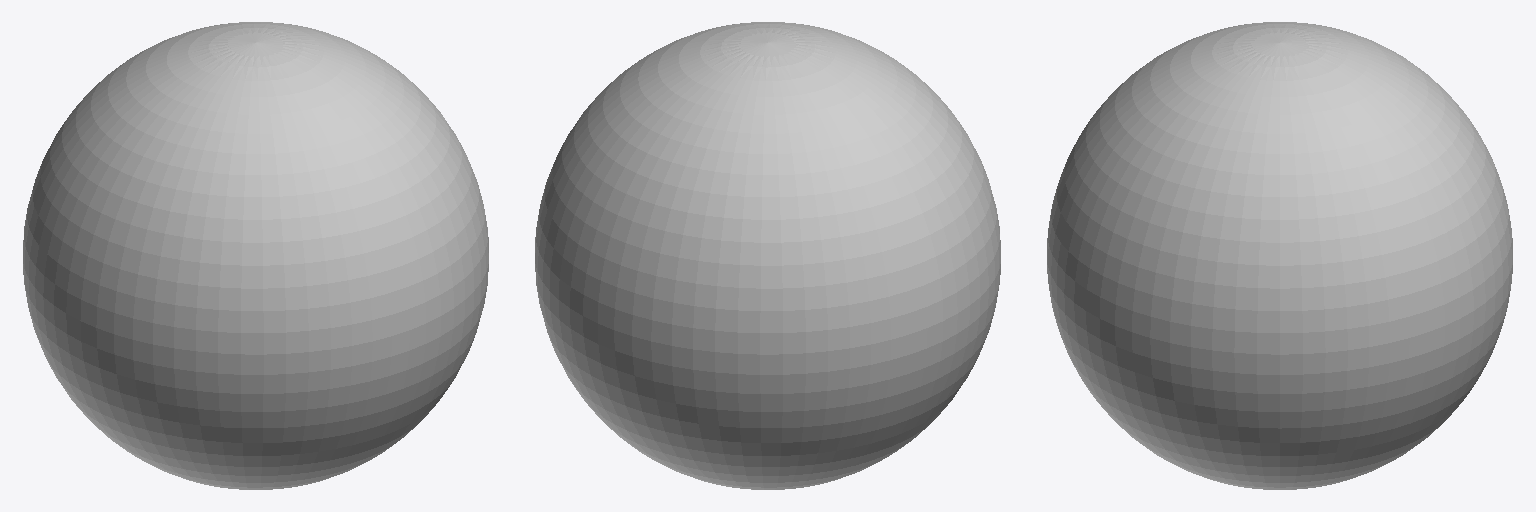
File: ball.obj
The picture shows the model from 3 angles: view 1: azimuth 30°, elevation 25°; view 2: azimuth 150°, elevation 25°; view 3: azimuth 270°, elevation 25°; orthographic projection.
Visible parts, largest first — view 1: Sphere; view 2: Sphere; view 3: Sphere.
Part boxes in pixels (left/top/right/bottom): Sphere: left=23, top=22, right=488, bottom=489; Sphere: left=535, top=22, right=1000, bottom=489; Sphere: left=1047, top=22, right=1512, bottom=489.
Bounding box in the file's own units: 1.98 × 2 × 1.98.